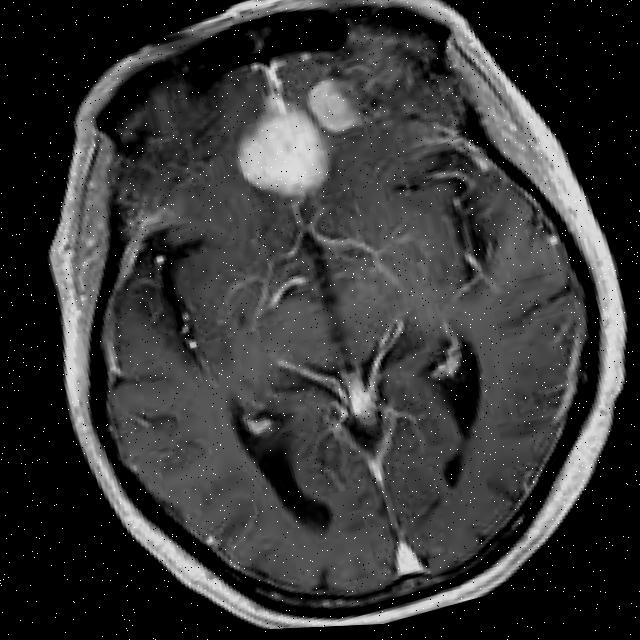Meningioma: (223, 87, 343, 211), (298, 66, 366, 138)
